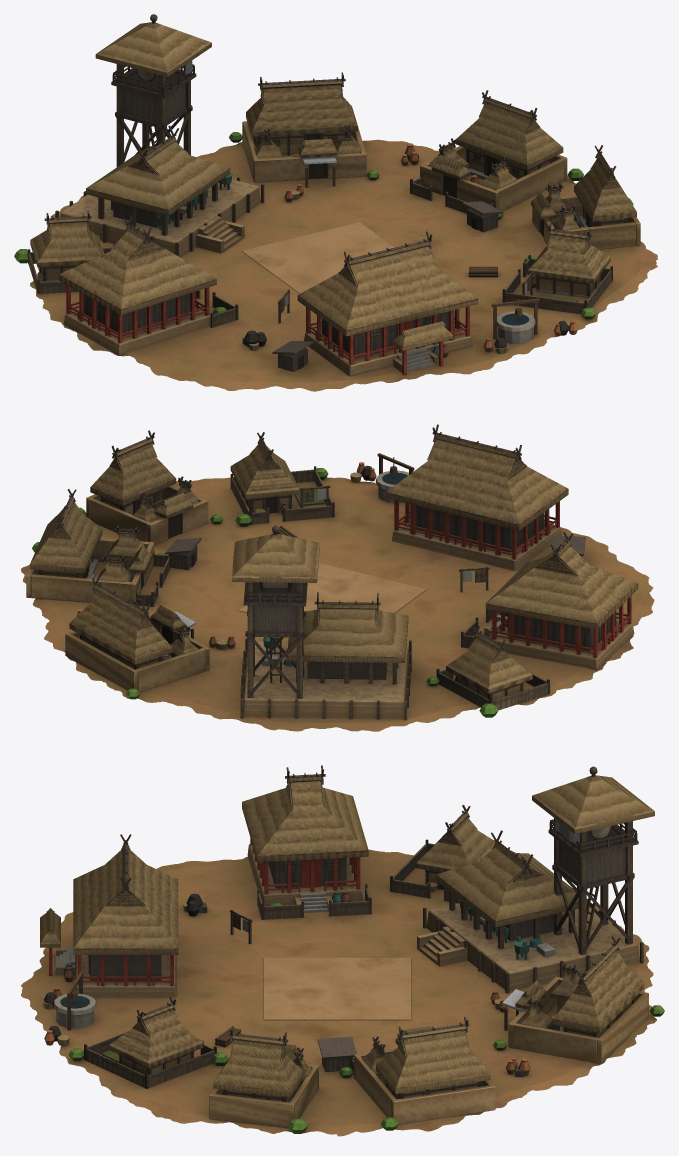
Rendered from bronze-town-small-b-sinic.glb.
3 views of the same model, one above another, from view 1: azimuth 30°, elevation 25°; view 2: azimuth 150°, elevation 25°; view 3: azimuth 270°, elevation 25° (orthographic). The views are drawn at different scales.
Parts seen in each view (by area): view 1: LOD0; view 2: LOD0; view 3: LOD0.
Part boxes in pixels (box(x1,y1,x2,y2)): LOD0: box(14, 14, 657, 391); LOD0: box(21, 424, 654, 731); LOD0: box(21, 765, 664, 1136).
Size of what is drawn, in the model's own units: 3.98 by 1.23 by 3.72.
3 materials, 3 textured.
